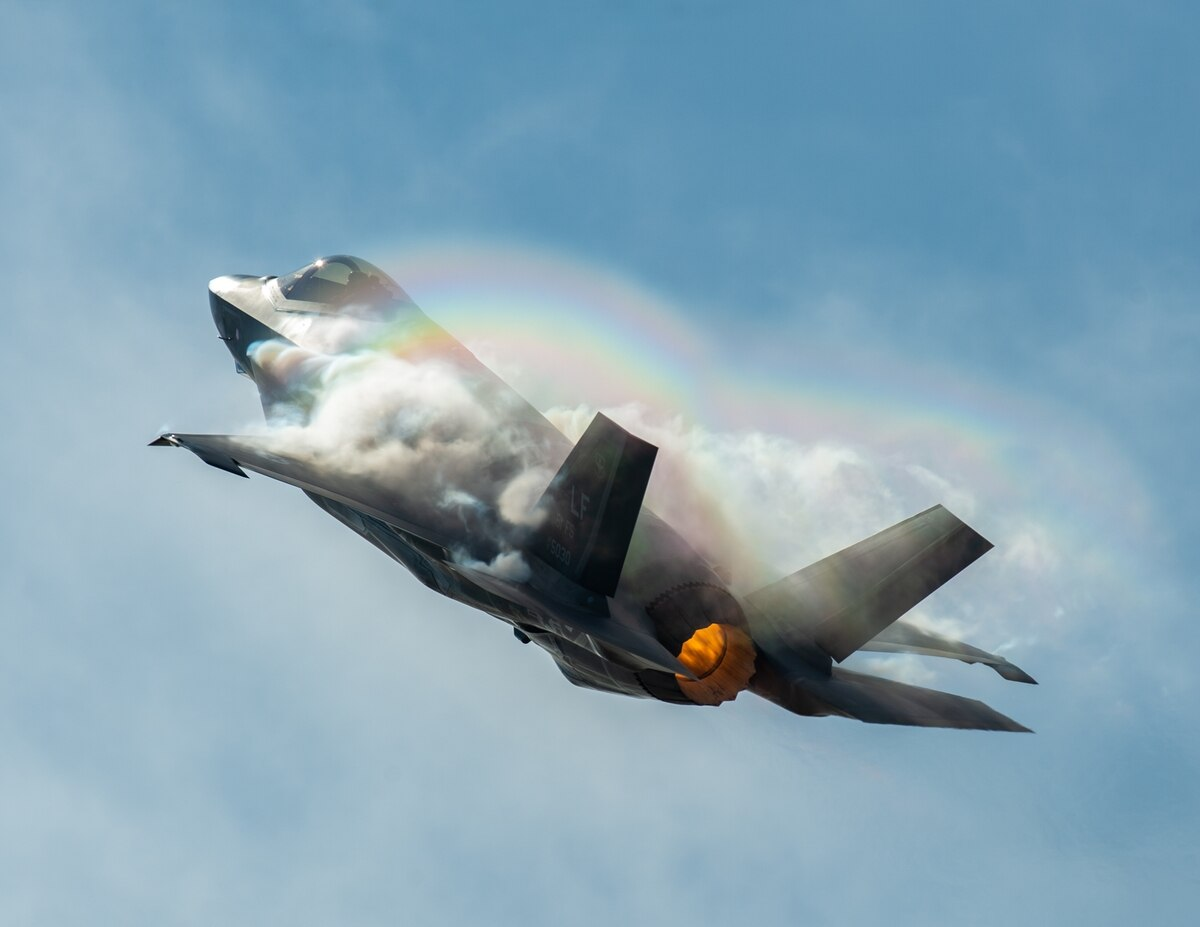F-35 Lightning: (103, 214, 1048, 830)
